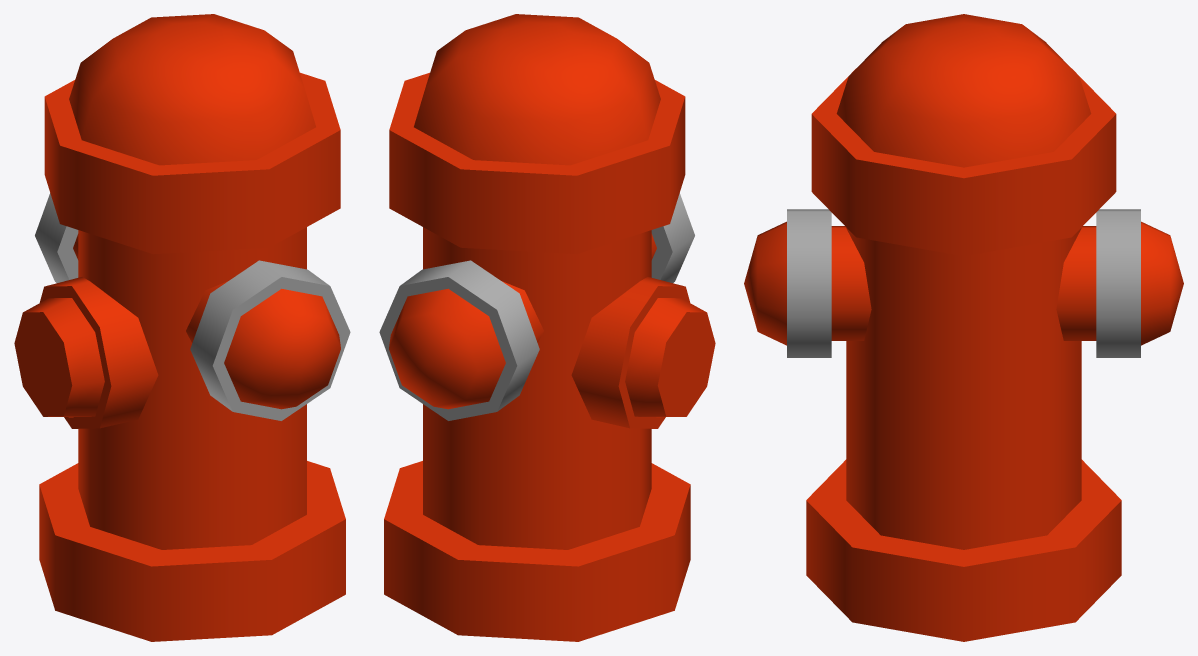
Rendered from hydrant.fbx.
The picture shows the model from 3 angles, left to right: view 1: azimuth 30°, elevation 25°; view 2: azimuth 150°, elevation 25°; view 3: azimuth 270°, elevation 25°; orthographic projection.
Parts seen in each view (by area): view 1: hydrant; view 2: hydrant; view 3: hydrant.
Part boxes in pixels (box(x1,y1,x2,y2)): hydrant: box(14, 14, 350, 641); hydrant: box(379, 14, 715, 641); hydrant: box(744, 14, 1183, 641).
Bounding box in the file's own units: 52.57 × 94.5 × 70.24.
